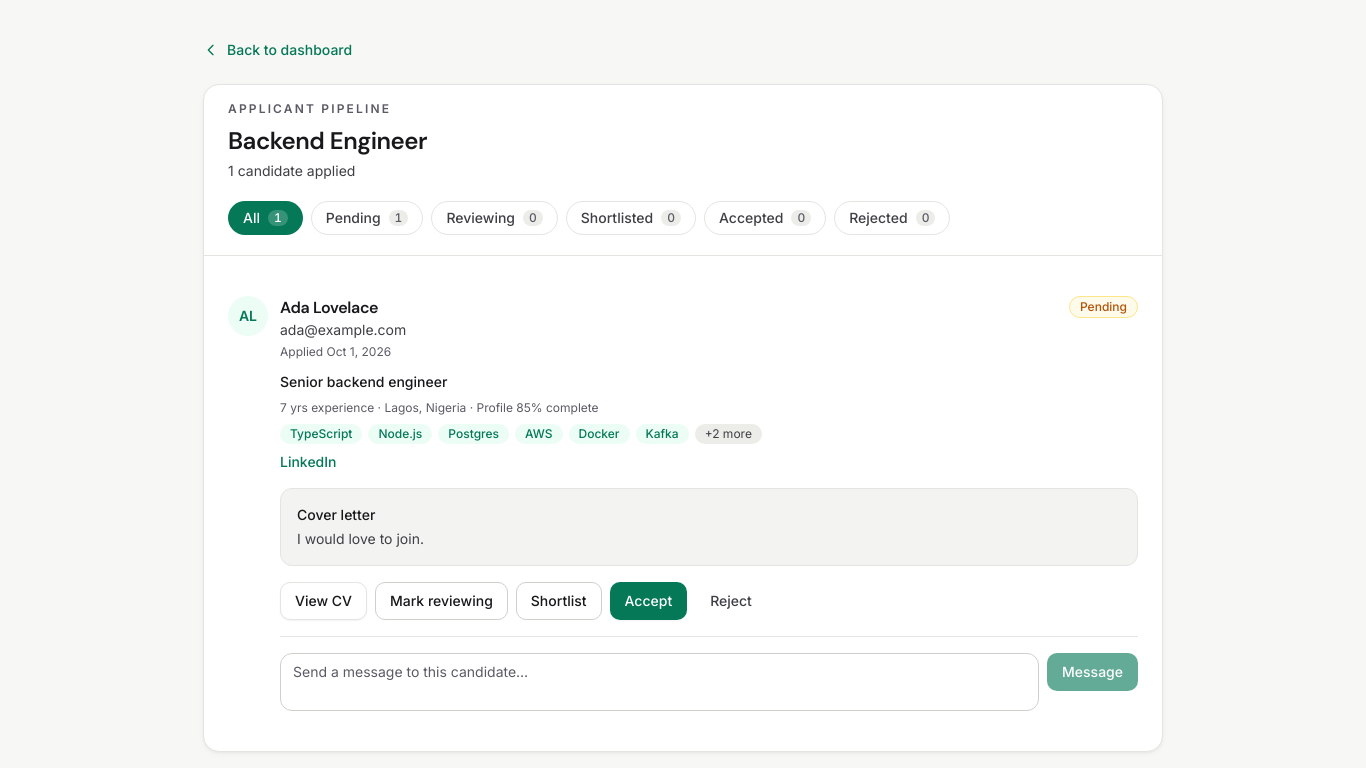
Test: Employer job applications page › shows inline feedback when a status update fails
Step 1. Click the button "Shortlist" → click(559, 601), box [516,582,602,620]
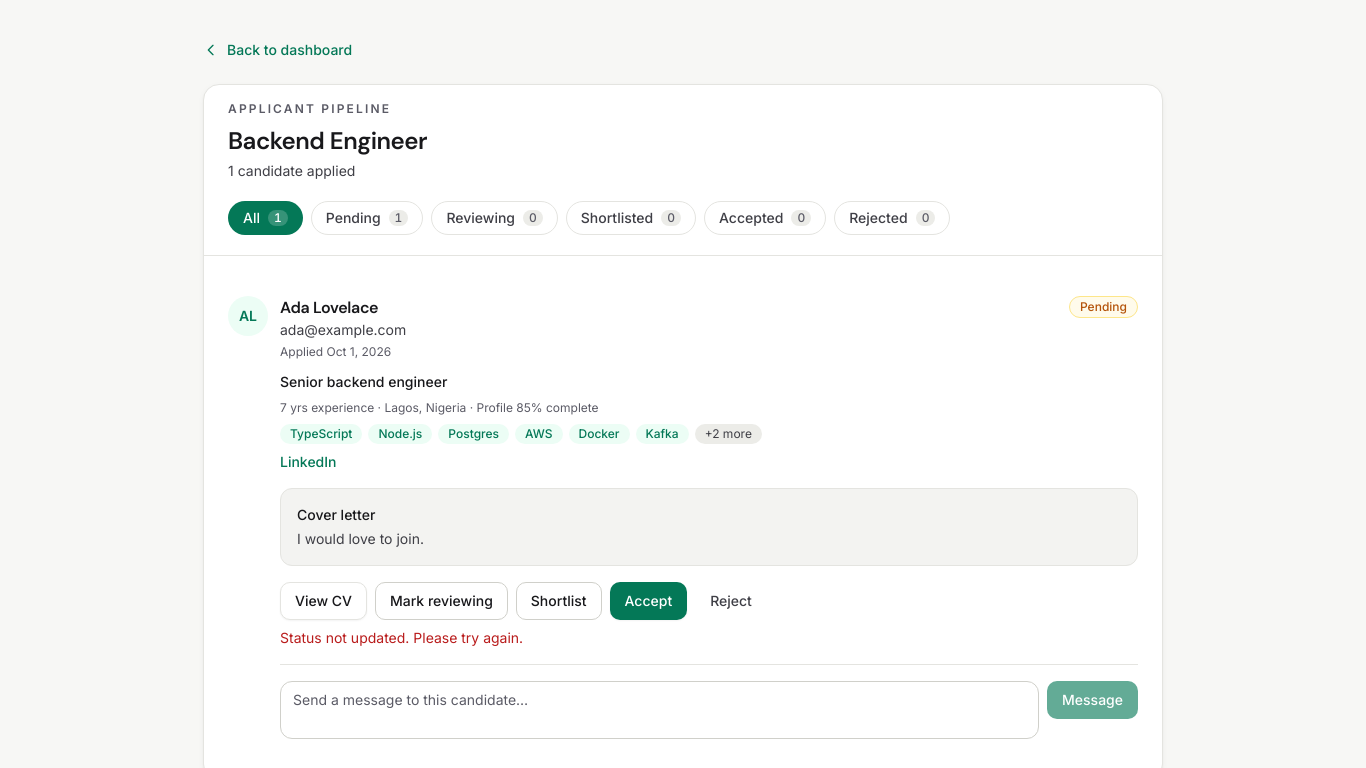
Expected: the text "Status not updated. Please try again." is shown, [280,629,523,646]
